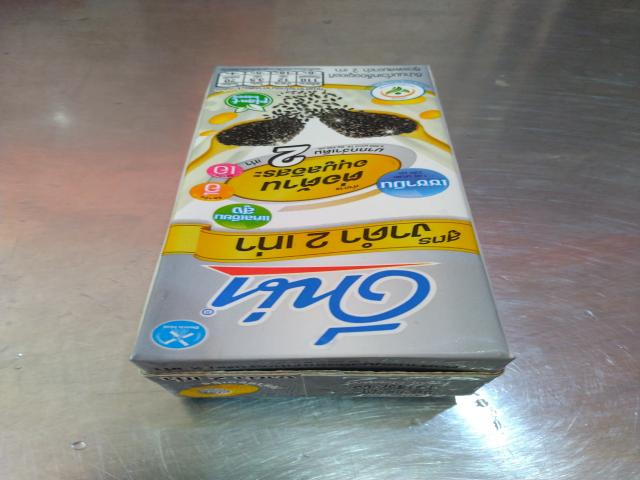drink_box: (116, 46, 527, 422)
